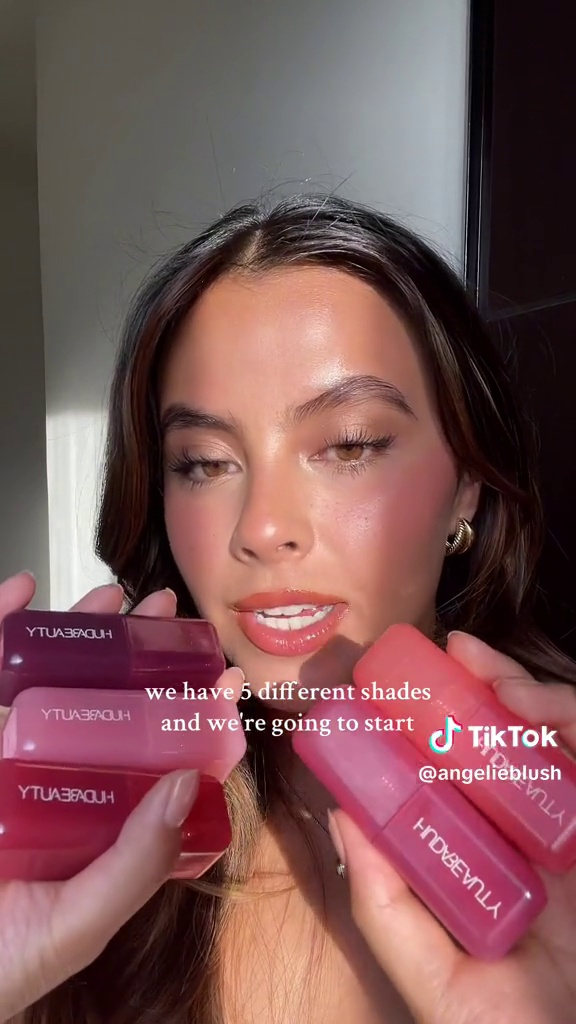train' :'yolo_data/train/images',: (280, 610, 575, 967), (1, 595, 259, 900)
